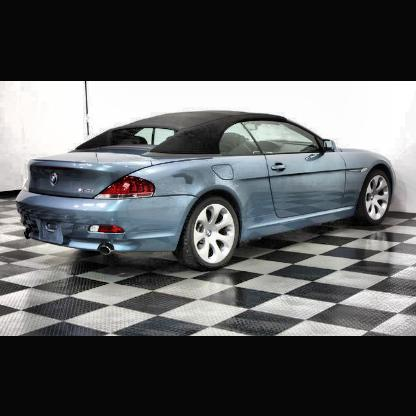BMW 6 Series Convertible 2007: (17, 110, 395, 271)
